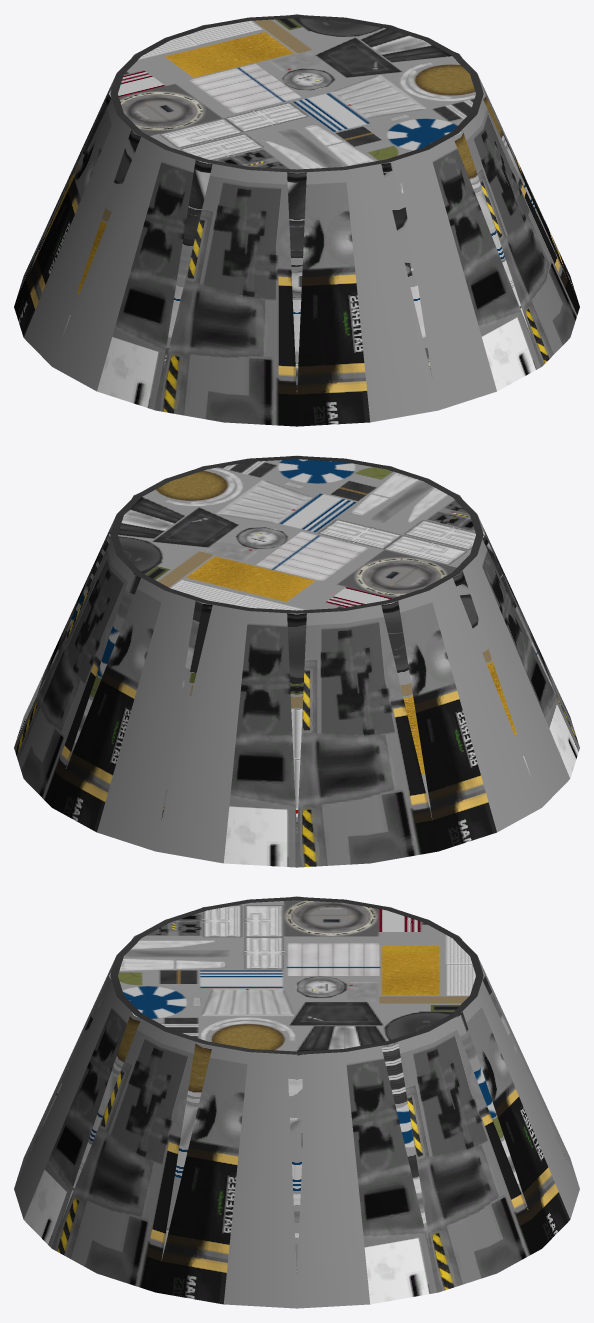
File: Adapter.FBX
3 renders of one model, top to bottom at view 1: azimuth 30°, elevation 25°; view 2: azimuth 150°, elevation 25°; view 3: azimuth 270°, elevation 25°, orthographic.
Parts seen in each view (by area): view 1: MainBody, Cylinder049; view 2: MainBody, Cylinder049; view 3: MainBody, Cylinder049.
Part boxes in pixels (box(x1,y1,x2,y2)): MainBody: box(14, 15, 579, 426); Cylinder049: box(27, 14, 566, 391); MainBody: box(14, 456, 579, 867); Cylinder049: box(27, 455, 566, 832); MainBody: box(14, 897, 579, 1308); Cylinder049: box(27, 896, 566, 1273).
Size of the model in its own units: 1.87 by 0.7795 by 1.87.
1 material, 1 textured.
